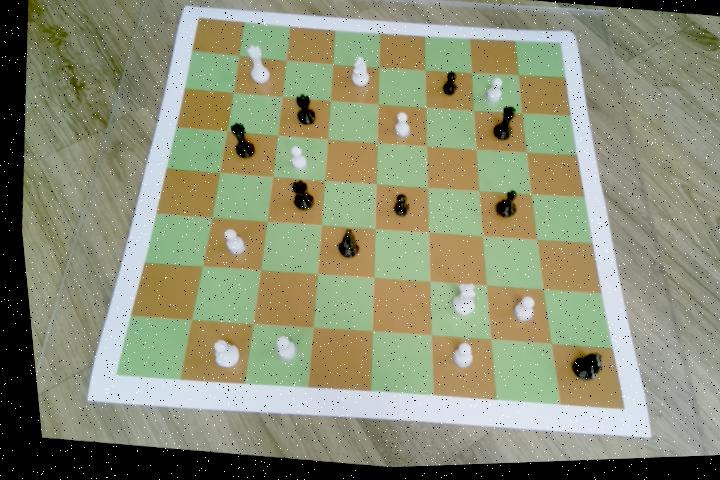chessboard-detect: (107, 17, 615, 414)
